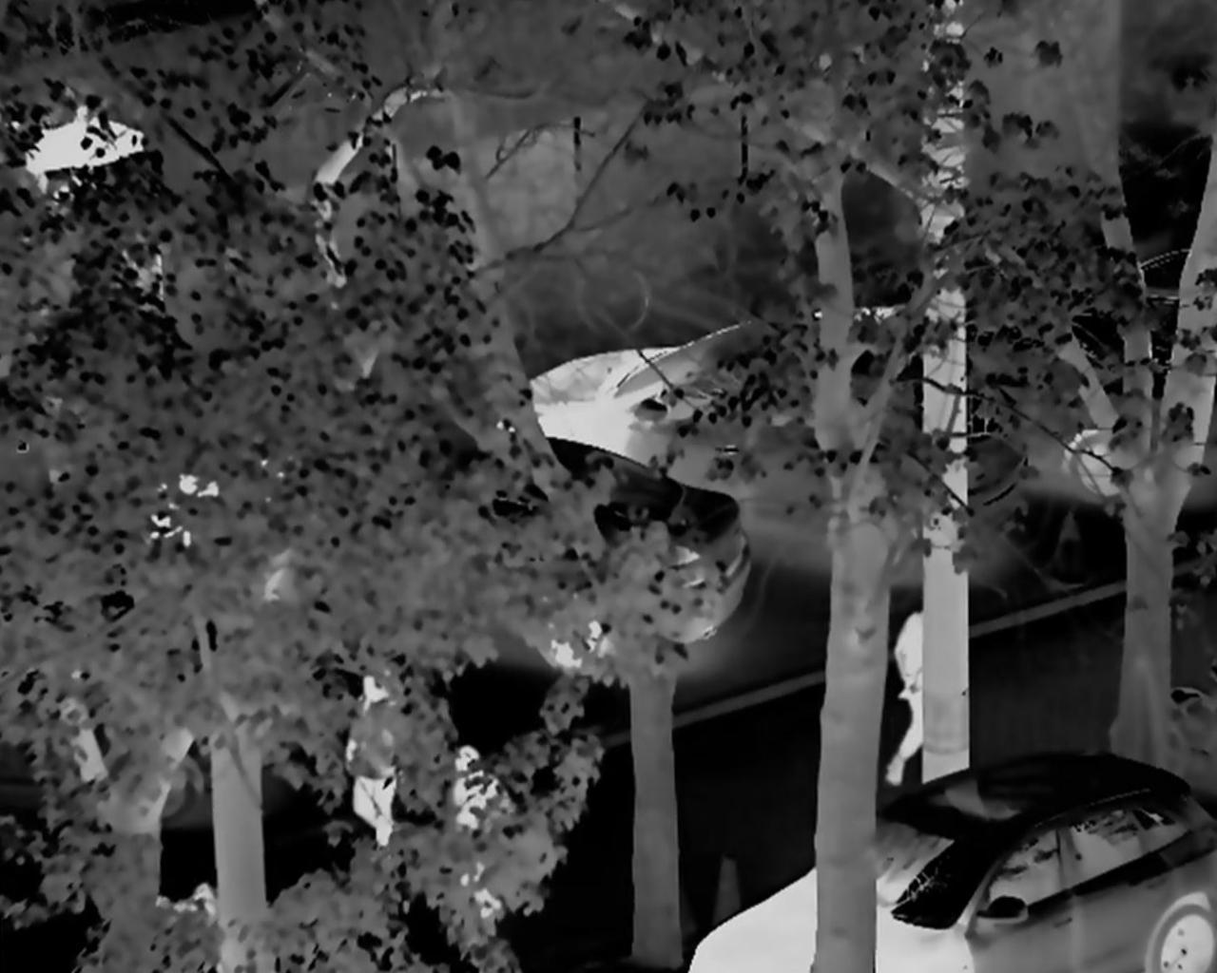person: (338, 655, 415, 858), (448, 740, 518, 958), (878, 603, 939, 791)
